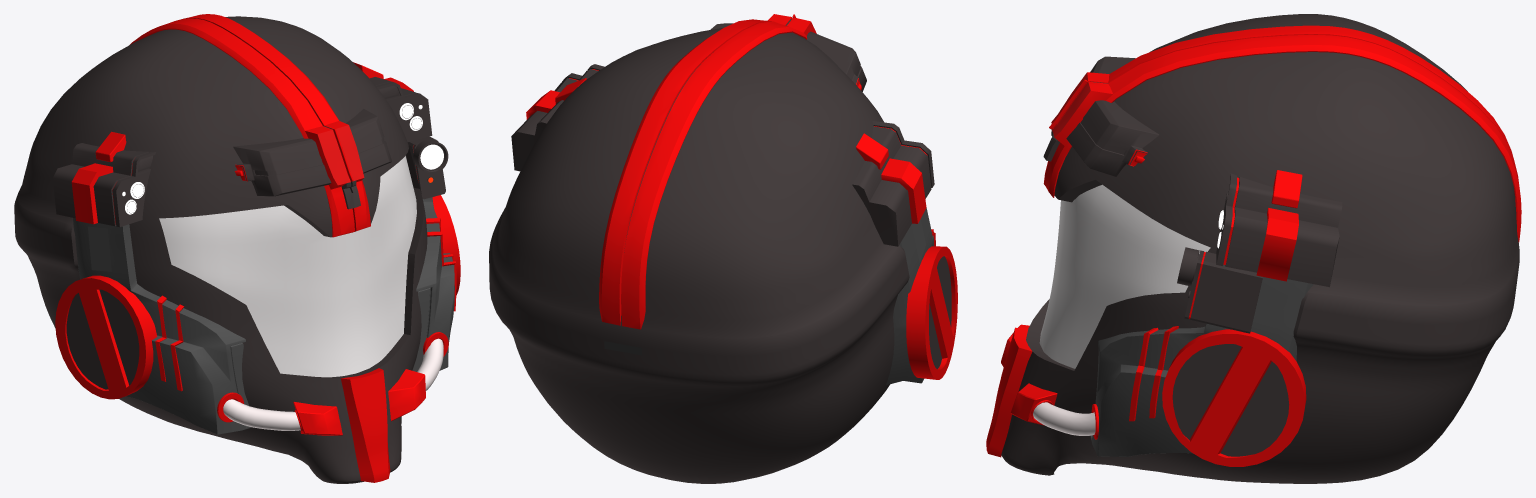
File: futuristic_helmet.glb
The picture shows the model from 3 angles, left to right: view 1: azimuth 30°, elevation 25°; view 2: azimuth 150°, elevation 25°; view 3: azimuth 270°, elevation 25°; orthographic projection. The views are drawn at different scales.
Visible parts, largest first — view 1: Cube.005_25, Cube.001_12, Cube.024_16, Circle.006_3, Cube.008_14, Cube.025_17, Cube.007_13, Cube.009_15, Cube.029_21, BezierCurve_2, Cylinder_23, Examples_028_24 (+5 smaller); view 2: Cube.005_25, Cube.008_14, Cube.025_17, Circle.006_3, Cube.024_16, Cube.007_13, Cube.026_18; view 3: Cube.005_25, Circle.006_3, Cube.001_12, Cube.008_14, Cube.024_16, Cube.025_17, Cube.007_13, Cube_11, Cube.009_15, BezierCurve_2, Cube.029_21, Cube.026_18 (+3 smaller).
Boxes of the visible parts, left/top/right/bottom form: Cube.005_25: left=14, top=16, right=427, bottom=483; Cube.001_12: left=159, top=156, right=416, bottom=377; Cube.024_16: left=72, top=197, right=454, bottom=434; Circle.006_3: left=55, top=195, right=460, bottom=399; Cube.008_14: left=130, top=14, right=370, bottom=237; Cube.025_17: left=52, top=77, right=432, bottom=227; Cube.007_13: left=233, top=109, right=391, bottom=196; Cube.009_15: left=340, top=368, right=390, bottom=482; Cube.029_21: left=293, top=369, right=425, bottom=435; BezierCurve_2: left=223, top=338, right=443, bottom=430; Cylinder_23: left=413, top=139, right=448, bottom=173; Examples_028_24: left=88, top=226, right=111, bottom=271; Cube.005_25: left=489, top=28, right=909, bottom=483; Cube.008_14: left=599, top=14, right=816, bottom=329; Cube.025_17: left=511, top=64, right=934, bottom=246; Circle.006_3: left=906, top=246, right=957, bottom=379; Cube.024_16: left=886, top=207, right=933, bottom=385; Cube.007_13: left=710, top=23, right=866, bottom=91; Cube.026_18: left=555, top=78, right=888, bottom=169; Cube.005_25: left=1001, top=14, right=1519, bottom=483; Circle.006_3: left=1162, top=329, right=1306, bottom=466; Cube.001_12: left=1039, top=184, right=1210, bottom=368; Cube.008_14: left=1043, top=25, right=1521, bottom=242; Cube.024_16: left=1090, top=277, right=1313, bottom=456; Cube.025_17: left=1216, top=173, right=1342, bottom=287; Cube.007_13: left=1066, top=56, right=1158, bottom=176; Cube_11: left=1184, top=250, right=1262, bottom=333; Cube.009_15: left=986, top=327, right=1032, bottom=457; BezierCurve_2: left=1033, top=402, right=1095, bottom=435; Cube.029_21: left=1001, top=324, right=1057, bottom=425; Cube.026_18: left=1271, top=170, right=1302, bottom=208.
Size of the model in its own units: 0.8844 by 0.8366 by 0.9571.
